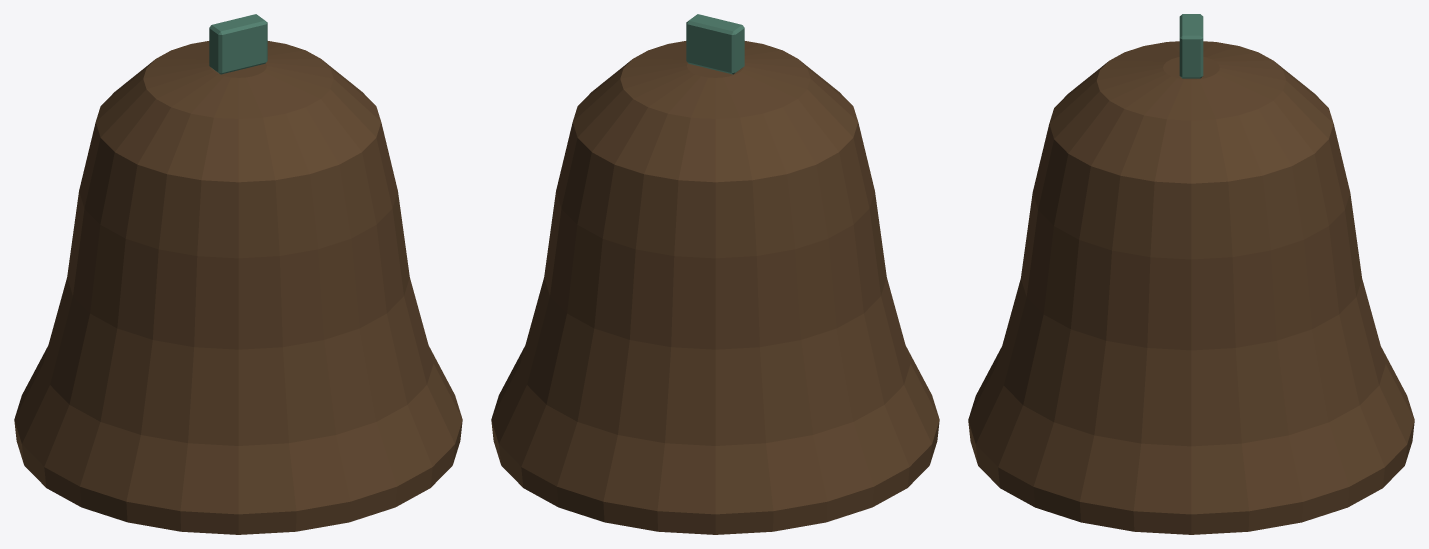
File: Prop_Lab_EchoBell_S05.glb
3 views of the same model, side by side, from view 1: azimuth 30°, elevation 25°; view 2: azimuth 150°, elevation 25°; view 3: azimuth 270°, elevation 25° (orthographic).
Parts seen in each view (by area): view 1: Prop_Lab_EchoBell_S05; view 2: Prop_Lab_EchoBell_S05; view 3: Prop_Lab_EchoBell_S05.
Boxes of the visible parts, box(x1,y1,x2,y2) form: Prop_Lab_EchoBell_S05: box(14, 14, 462, 534); Prop_Lab_EchoBell_S05: box(491, 14, 939, 534); Prop_Lab_EchoBell_S05: box(968, 14, 1414, 534).
Size of what is drawn, in the model's own units: 0.7446 by 0.7667 by 0.7446.
